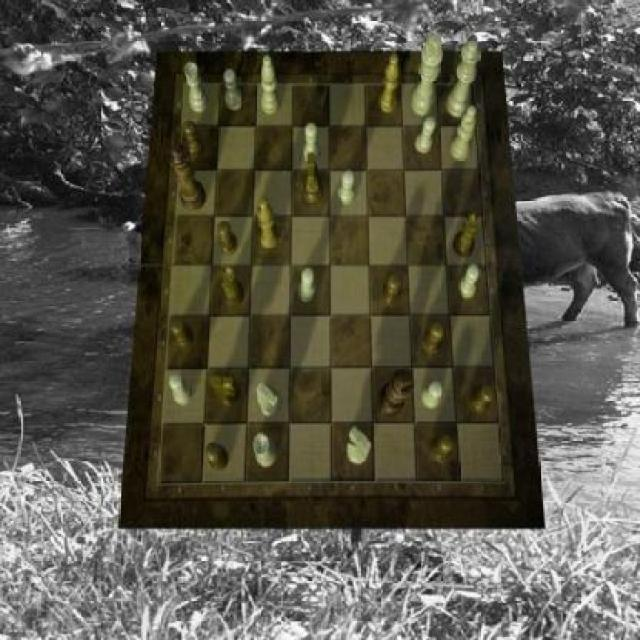bishop: (378, 54, 401, 114), (257, 197, 279, 248)
black-bishop: (378, 369, 414, 417)
black-king: (303, 152, 323, 205), (209, 376, 239, 406)
black-knight: (470, 383, 496, 414), (183, 120, 204, 158), (170, 318, 194, 351), (217, 220, 238, 256), (423, 322, 445, 356), (382, 272, 402, 307), (206, 443, 229, 471), (431, 434, 454, 461)
black-pawn: (168, 143, 205, 212)
black-queen: (454, 214, 481, 258), (220, 266, 245, 309)
black-rook: (450, 104, 478, 160), (262, 57, 280, 117)
white-bishop: (411, 34, 443, 118)
white-king: (348, 426, 372, 465), (257, 382, 283, 416)
white-knight: (458, 263, 481, 298), (224, 69, 243, 111), (416, 115, 436, 153), (170, 372, 192, 406), (303, 123, 320, 163), (421, 382, 444, 409), (339, 169, 356, 204), (299, 268, 316, 302)
white-pawn: (448, 38, 483, 118)
white-queen: (184, 61, 208, 112), (252, 432, 276, 467)
